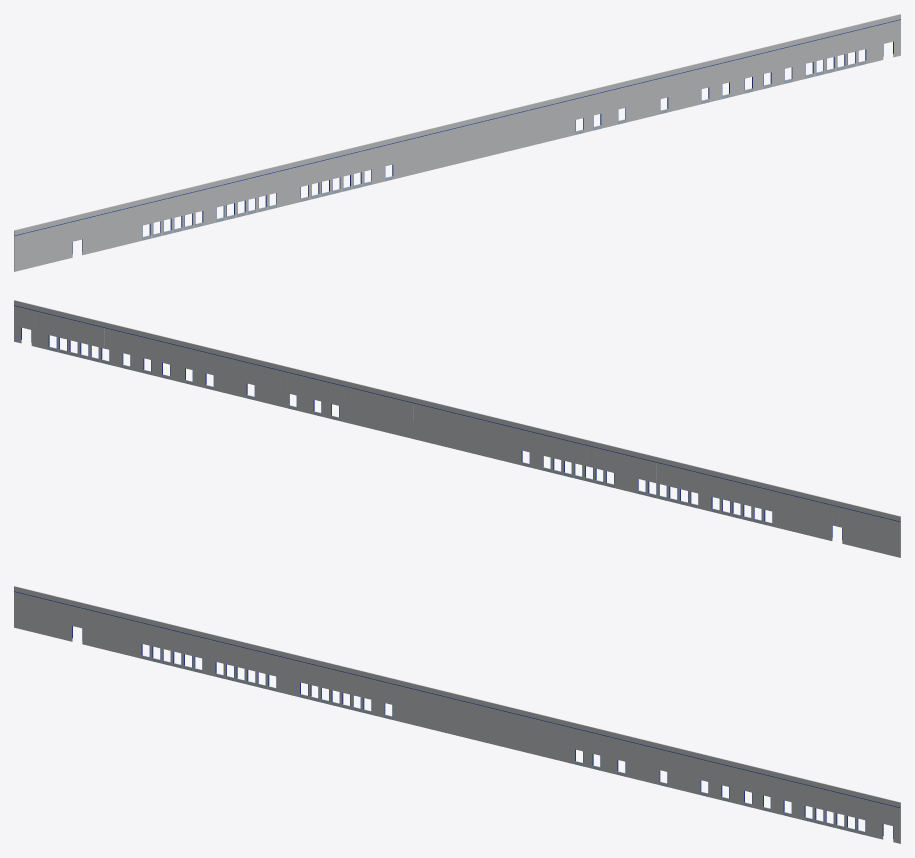
File: SM_MPR_Exterior_02.fbx
3 renders of one model, top to bottom at view 1: azimuth 30°, elevation 25°; view 2: azimuth 150°, elevation 25°; view 3: azimuth 330°, elevation 25°, orthographic.
Visible parts, largest first — view 1: SM_MPR_Exterior_02; view 2: SM_MPR_Exterior_02; view 3: SM_MPR_Exterior_02.
Part boxes in pixels (x1=…): SM_MPR_Exterior_02: x1=14, y1=14, x2=900, y2=271; SM_MPR_Exterior_02: x1=14, y1=300, x2=900, y2=557; SM_MPR_Exterior_02: x1=14, y1=586, x2=900, y2=843.
Bounding box in the file's own units: 33287 × 42 × 1480.
